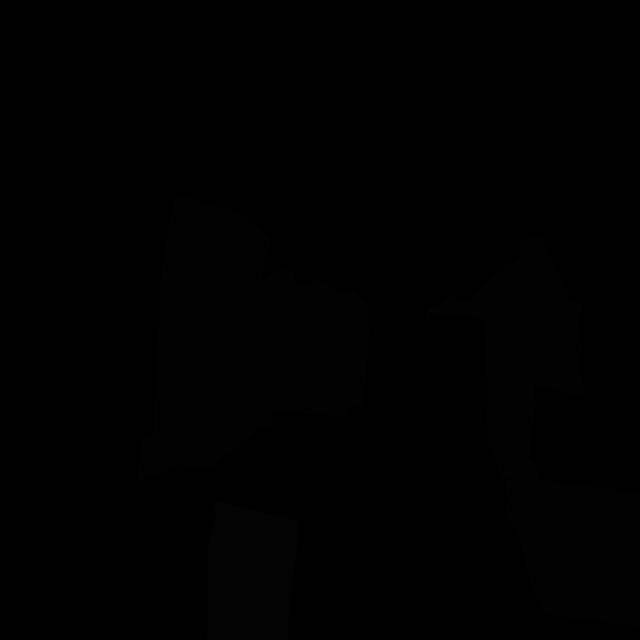cardboard: (137, 193, 370, 482), (425, 234, 587, 479), (504, 478, 640, 627)
metal: (206, 500, 300, 640)
